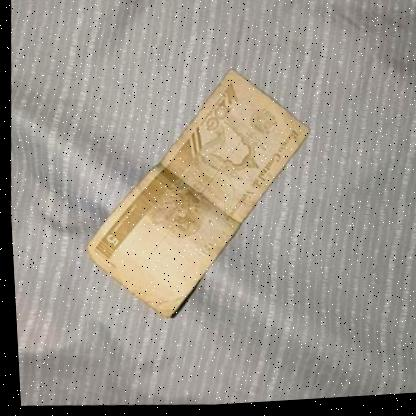five-back-vef: (71, 60, 319, 332)
